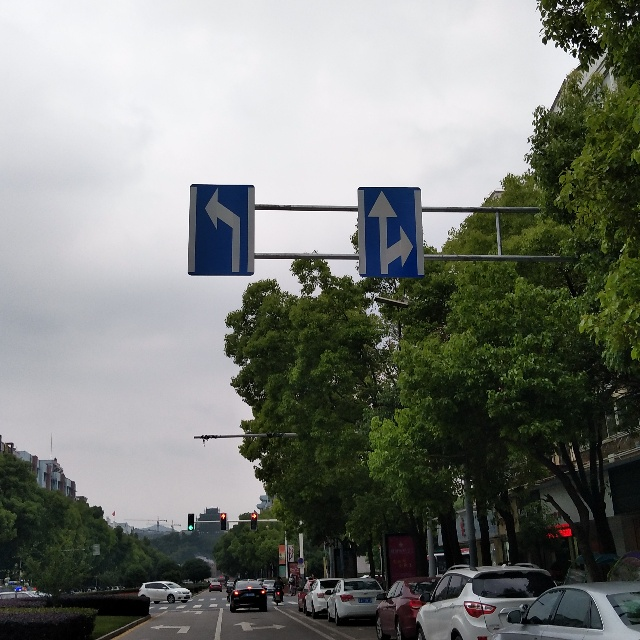left: (194, 184, 248, 275)
